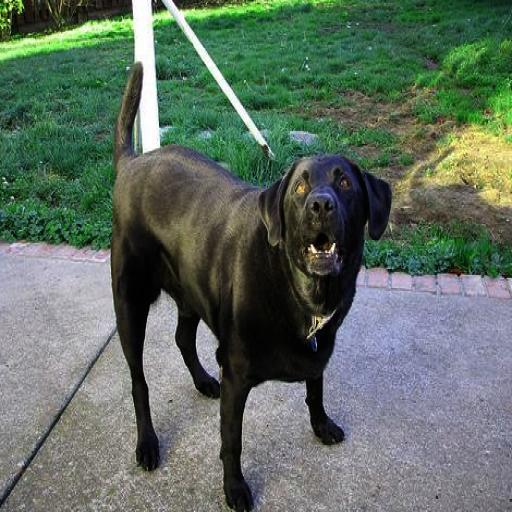dog_face: (264, 157, 394, 272)
